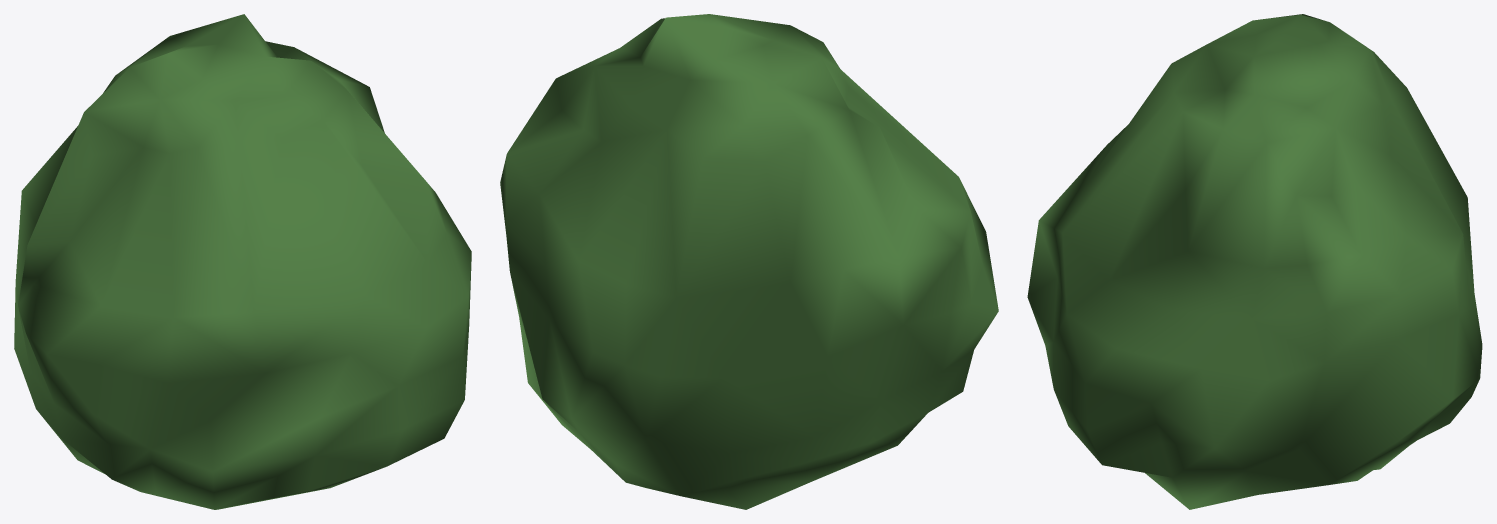
Rendered from Bush.fbx.
3 renders of one model, left to right at view 1: azimuth 30°, elevation 25°; view 2: azimuth 150°, elevation 25°; view 3: azimuth 270°, elevation 25°, orthographic. The views are drawn at different scales.
Visible parts, largest first — view 1: Sphere; view 2: Sphere; view 3: Sphere.
Part boxes in pixels (x1,y1,x2,y2): Sphere: [14, 14, 471, 509]; Sphere: [500, 14, 998, 509]; Sphere: [1027, 14, 1482, 509].
Bounding box in the file's own units: 197 × 192 × 184.
